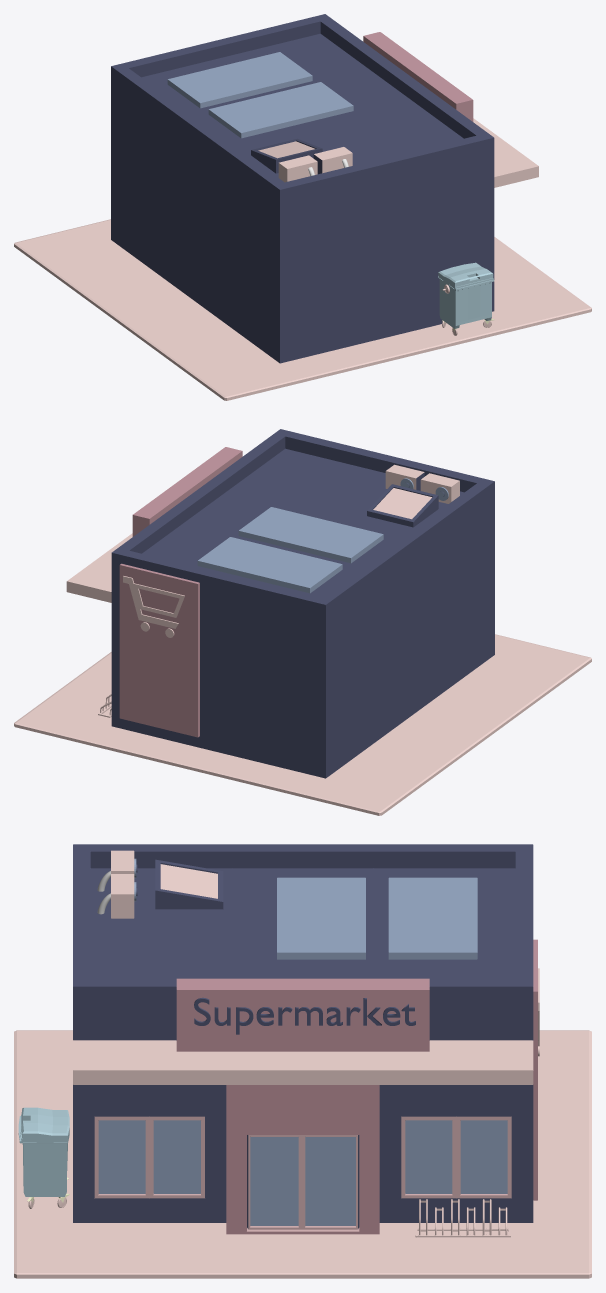
The model's file is Gebouw1_Tinka(Supermarkt).fbx.
The picture shows the model from 3 angles, top to bottom: view 1: azimuth 30°, elevation 25°; view 2: azimuth 150°, elevation 25°; view 3: azimuth 270°, elevation 25°; orthographic projection. The views are drawn at different scales.
Visible parts, largest first — view 1: Cube, Plane, Vuilcontainer; view 2: Cube, Plane; view 3: Cube, Plane, Vuilcontainer, Text, fietssrek2, fietsrek3.
Boxes of the visible parts, x1,y1,x2,y2 form: Cube: [111, 14, 538, 363]; Plane: [14, 219, 591, 400]; Vuilcontainer: [438, 262, 494, 335]; Cube: [66, 429, 494, 778]; Plane: [14, 634, 591, 815]; Cube: [73, 844, 539, 1234]; Plane: [14, 1030, 591, 1278]; Vuilcontainer: [18, 1107, 69, 1208]; Text: [194, 997, 415, 1034]; fietssrek2: [419, 1199, 507, 1235]; fietsrek3: [415, 1227, 510, 1237].
Bounding box in the file's own units: 2669 × 1271 × 2669.
